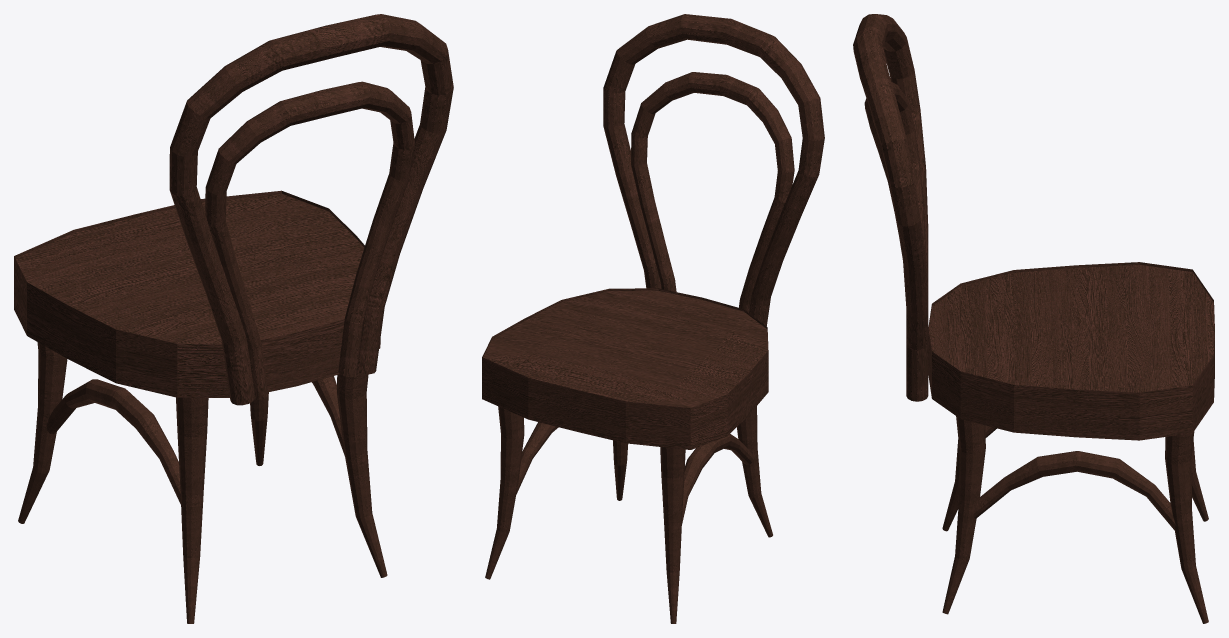
File: Silla.fbx
3 renders of one model, left to right at view 1: azimuth 30°, elevation 25°; view 2: azimuth 150°, elevation 25°; view 3: azimuth 270°, elevation 25°, orthographic. The views are drawn at different scales.
Visible parts, largest first — view 1: Silla; view 2: Silla; view 3: Silla.
Part boxes in pixels (x1=…): Silla: x1=14, y1=14, x2=453, y2=623; Silla: x1=482, y1=14, x2=824, y2=623; Silla: x1=853, y1=14, x2=1214, y2=623.
Size of the model in its own units: 70.76 by 136 by 82.78.
